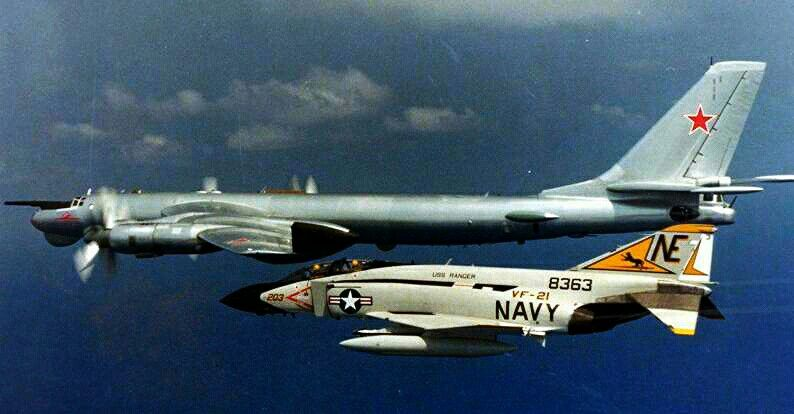Aeronef_militaire: (8, 49, 794, 290), (214, 221, 735, 353)
